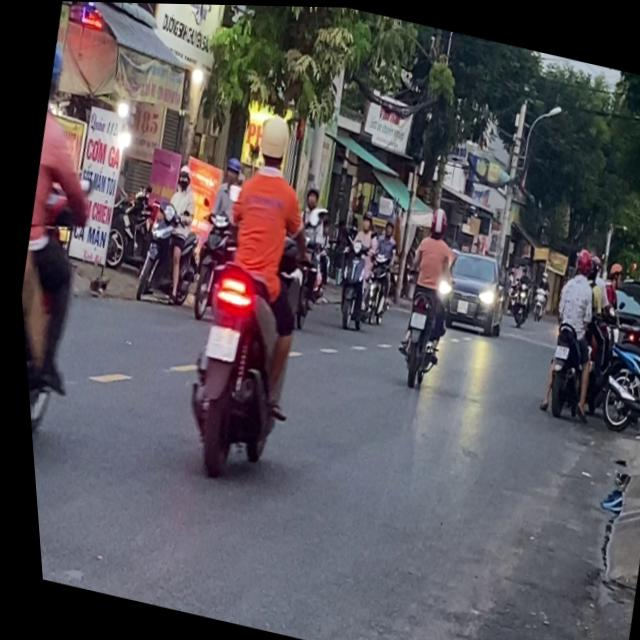helmet: (248, 108, 292, 167), (41, 36, 69, 106), (421, 201, 445, 234), (216, 151, 240, 184), (567, 242, 588, 273), (170, 161, 190, 191)
licenseplate: (148, 97, 347, 487), (2, 34, 135, 468), (376, 197, 469, 387), (520, 237, 613, 421)
nohelmet: (196, 321, 234, 359), (403, 307, 421, 326), (547, 339, 564, 355)
